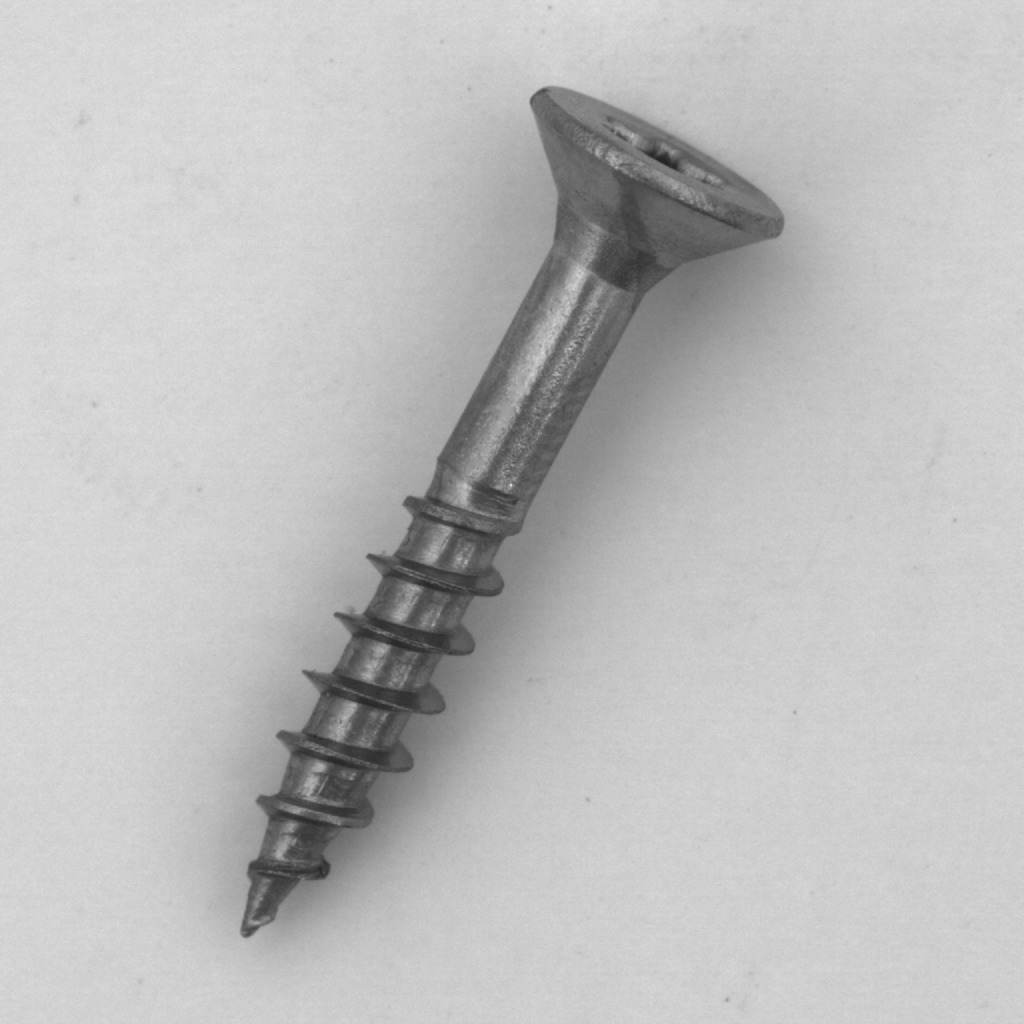good: (215, 73, 807, 956)
